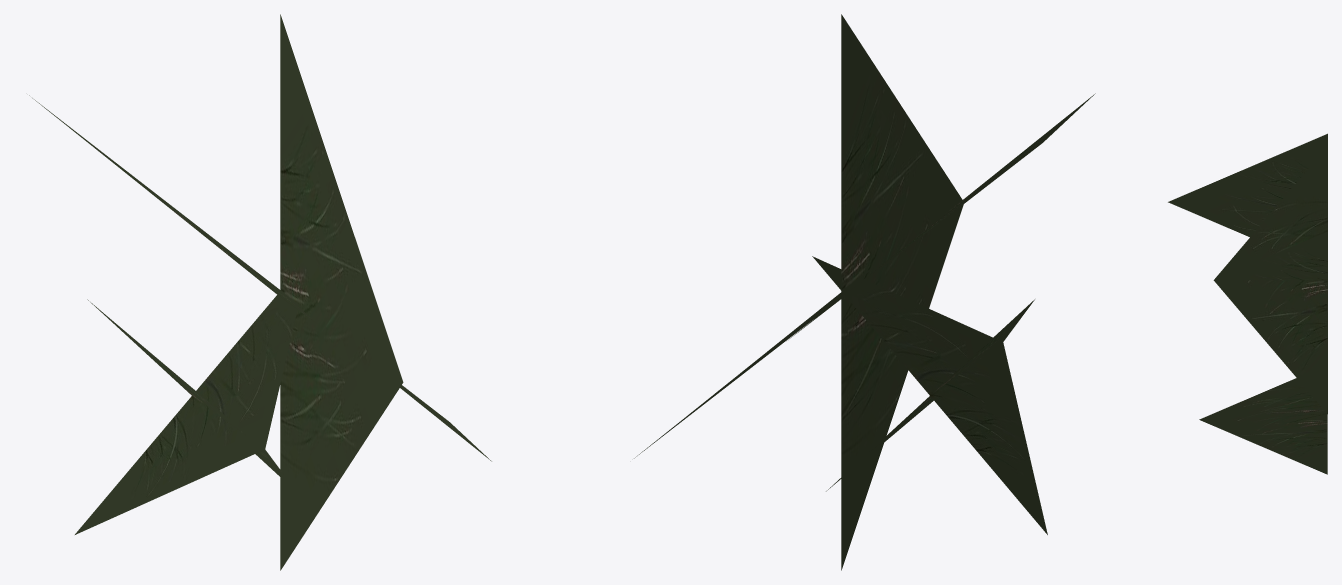
The model's file is brush_shortnewgrass_squareclump.glb.
3 renders of one model, left to right at view 1: azimuth 30°, elevation 25°; view 2: azimuth 150°, elevation 25°; view 3: azimuth 270°, elevation 25°, orthographic. The views are drawn at different scales.
Size of the model in its own units: 62.91 by 62.91 by 25.16.
Materials: 1 (1 with a texture image).
